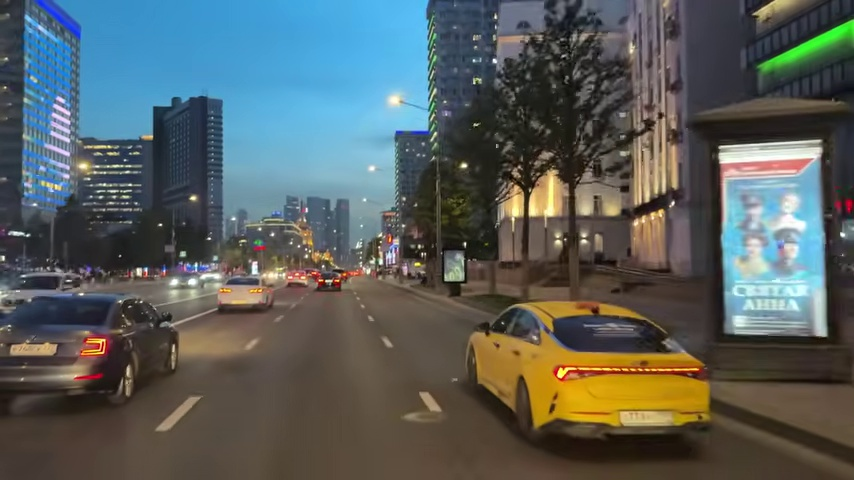acesa: (386, 93, 404, 108), (186, 193, 201, 207)
